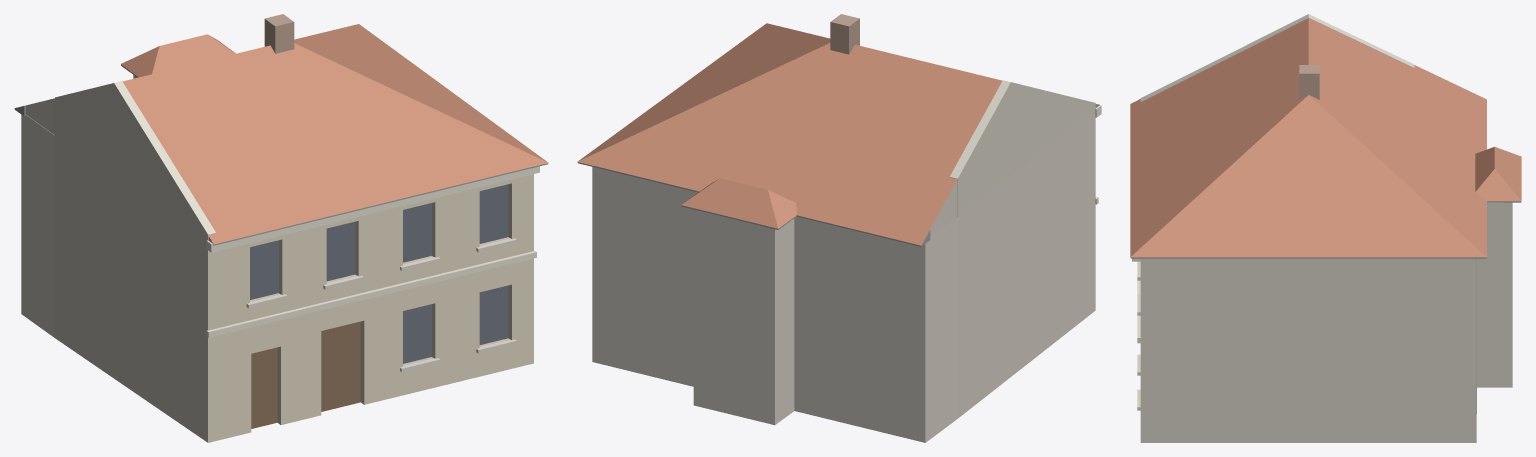
3 renders of one model, left to right at view 1: azimuth 30°, elevation 25°; view 2: azimuth 150°, elevation 25°; view 3: azimuth 270°, elevation 25°, orthographic. The views are drawn at different scales.
Parts seen in each view (by area): view 1: CP_879_Masonry, CP_879_Roof, CP_879_Roof_Gable_L_gable, CP_879_Cornice_main_string_0, CP_879_WingRoof_rear_jog, CP_879_Cornice_main_eave_0, CP_879_Chimney_0, CP_879_AtticClosure, CP_879_Roof_EaveClosure_0; view 2: CP_879_Masonry, CP_879_Roof, CP_879_Roof_Gable_L_gable, CP_879_WingRoof_rear_jog, CP_879_Chimney_0, CP_879_AtticClosure, CP_879_Roof_EaveClosure_2; view 3: CP_879_Roof, CP_879_Masonry, CP_879_WingRoof_rear_jog, CP_879_Roof_Gable_L_gable, CP_879_Chimney_0, CP_879_Roof_EaveClosure_1.
Boxes of the visible parts, box(x1,y1,x2,y2) form: CP_879_Masonry: box(21, 75, 533, 442); CP_879_Roof: box(122, 24, 548, 244); CP_879_Roof_Gable_L_gable: box(55, 81, 215, 240); CP_879_Cornice_main_string_0: box(206, 250, 536, 337); CP_879_WingRoof_rear_jog: box(121, 34, 235, 77); CP_879_Cornice_main_eave_0: box(206, 166, 539, 252); CP_879_Chimney_0: box(264, 14, 294, 53); CP_879_AtticClosure: box(25, 98, 54, 134); CP_879_Roof_EaveClosure_0: box(208, 167, 531, 245); CP_879_Masonry: box(592, 109, 1095, 442); CP_879_Roof: box(577, 23, 1002, 245); CP_879_Roof_Gable_L_gable: box(950, 80, 1095, 216); CP_879_WingRoof_rear_jog: box(681, 178, 796, 228); CP_879_Chimney_0: box(830, 14, 859, 54); CP_879_AtticClosure: box(930, 180, 957, 236); CP_879_Roof_EaveClosure_2: box(594, 166, 930, 246); CP_879_Roof: box(1130, 18, 1486, 257); CP_879_Masonry: box(1140, 202, 1512, 442); CP_879_WingRoof_rear_jog: box(1475, 146, 1521, 201); CP_879_Roof_Gable_L_gable: box(1140, 14, 1414, 101); CP_879_Chimney_0: box(1299, 65, 1319, 99); CP_879_Roof_EaveClosure_1: box(1148, 257, 1468, 258).
Bounding box in the file's own units: 12.83 × 11.3 × 13.43.
